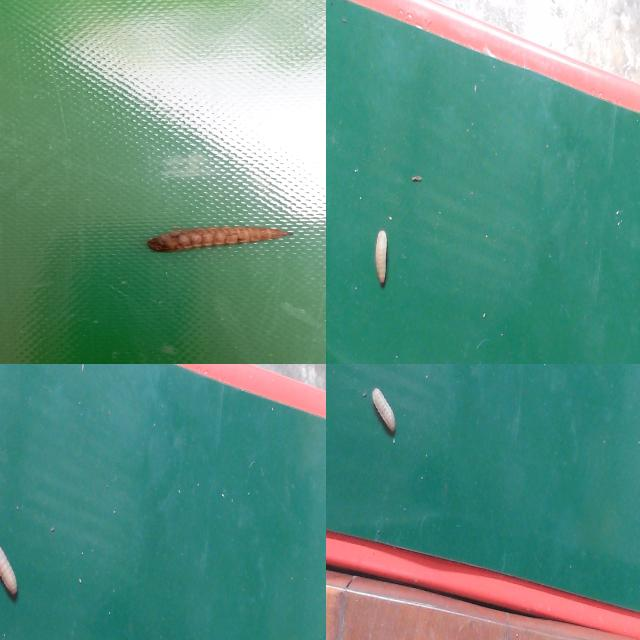Maggot: (146, 226, 296, 254), (370, 388, 397, 440), (371, 229, 390, 289), (0, 544, 19, 602)
